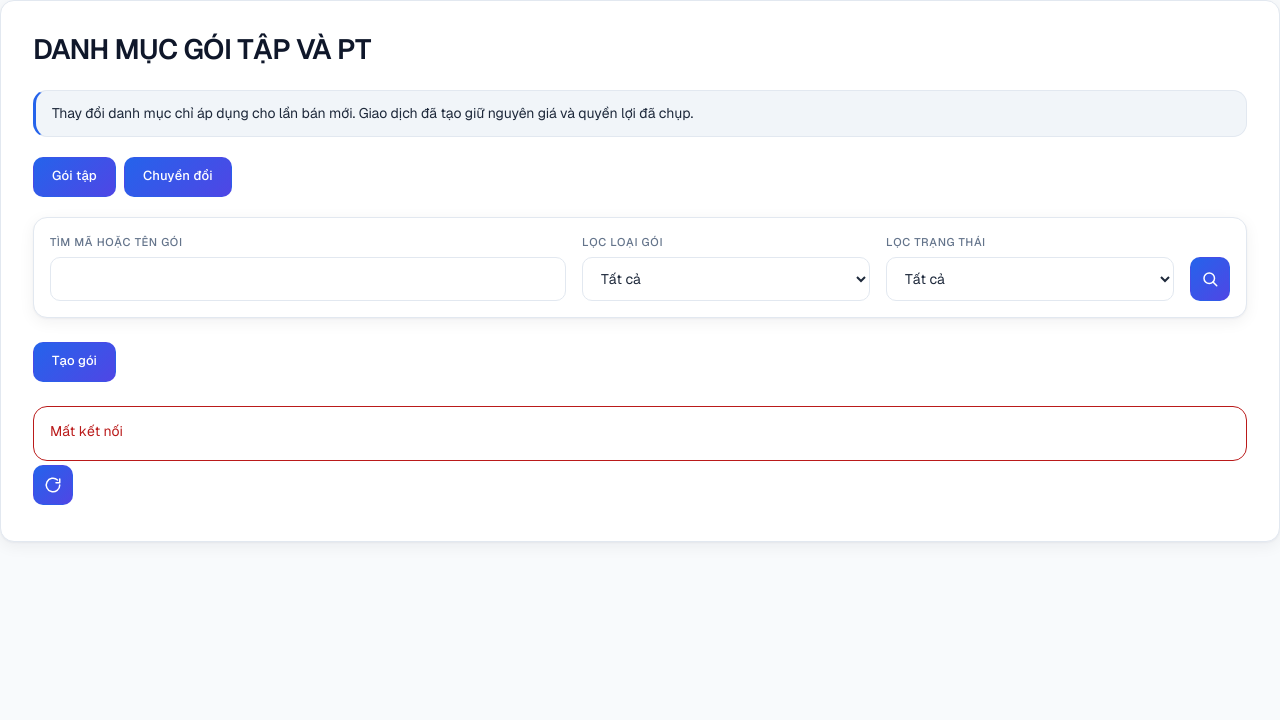
Test: US-12 TC15: catalog and forms › shows empty/error and retries loading
Expected: the message "Mất kết nối" is shown, [33,406,1247,461]
Click the 2nd button named "Thử lại".
click(53, 485)  # box [33,465,73,505]
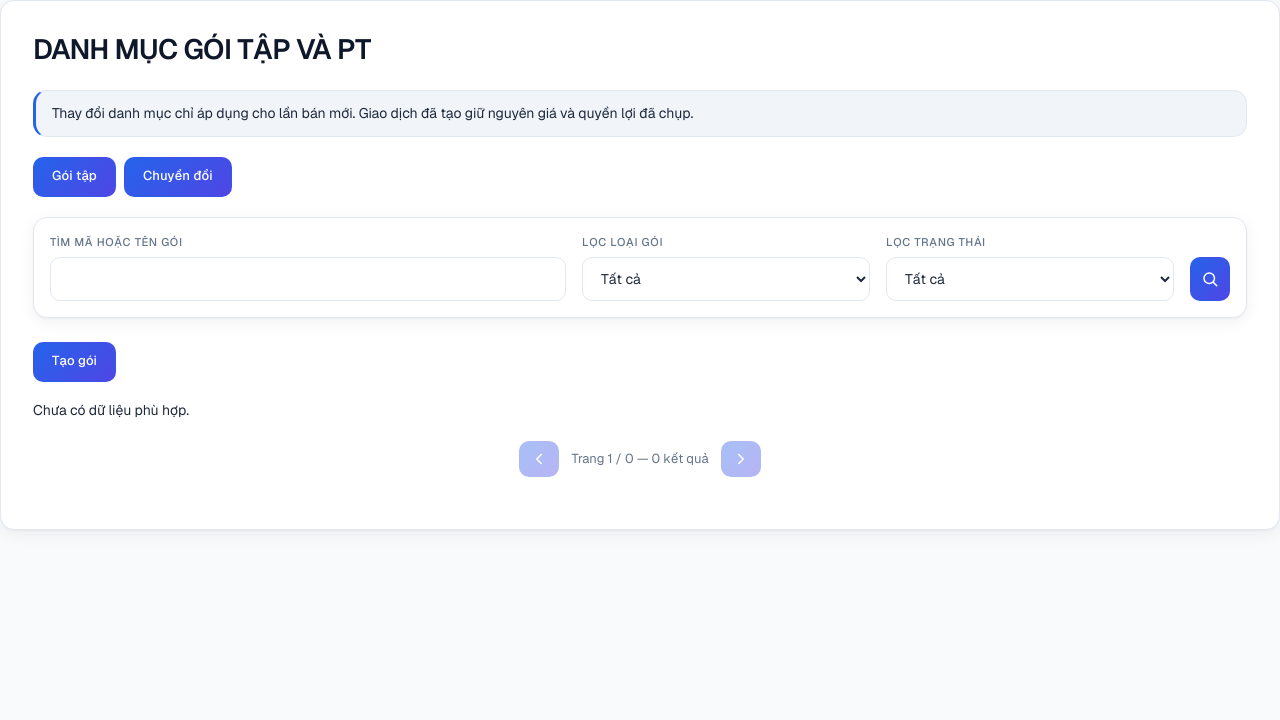
Expected: the text "Chưa có dữ liệu phù hợp." is shown, [33,401,189,419]
